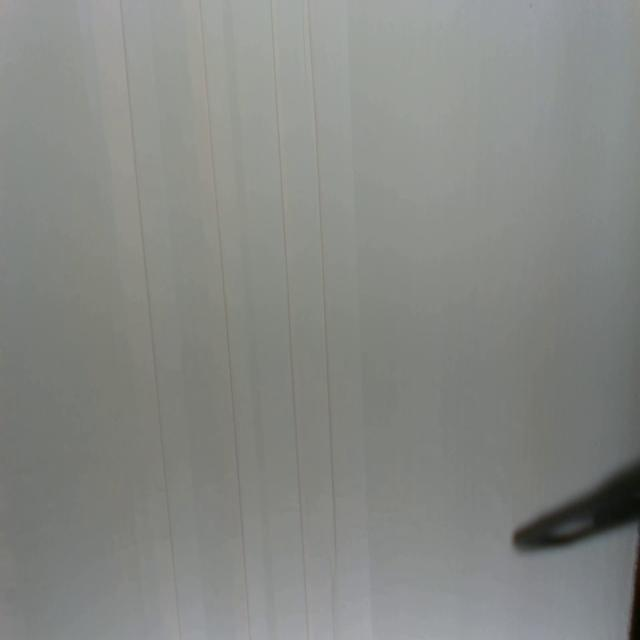crease: (120, 0, 180, 640), (198, 0, 252, 640), (270, 0, 310, 640), (307, 0, 339, 640)
